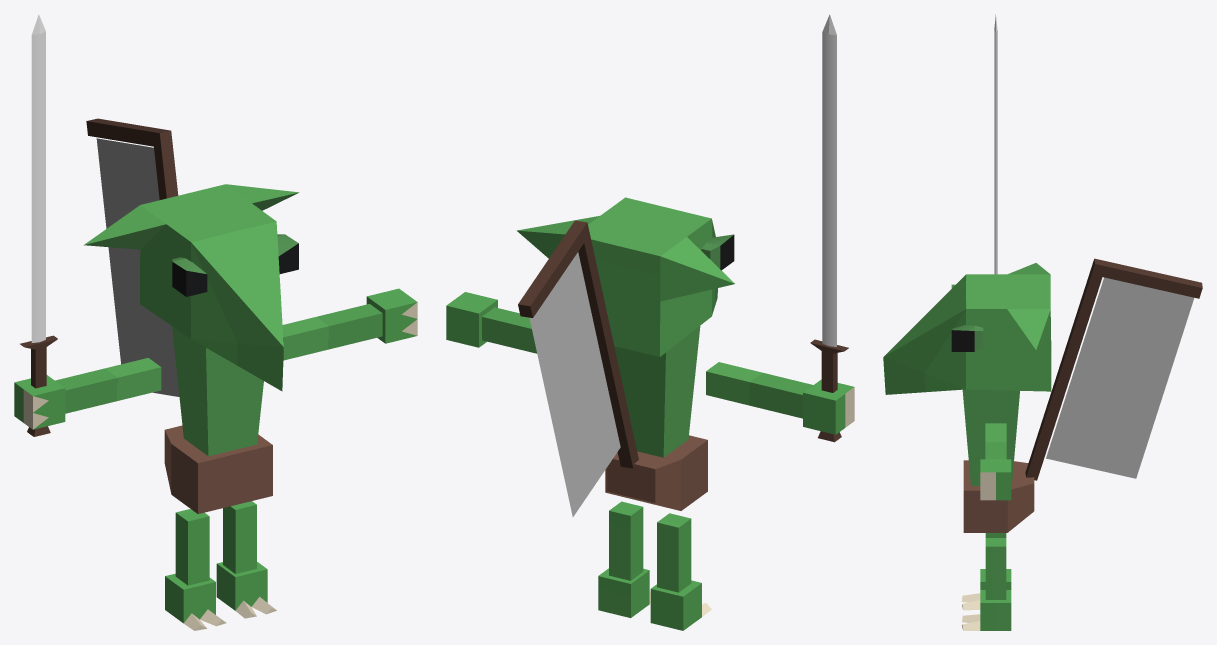
The model's file is GoblinCheiftan.fbx.
3 renders of one model, left to right at view 1: azimuth 30°, elevation 25°; view 2: azimuth 150°, elevation 25°; view 3: azimuth 270°, elevation 25°, orthographic. The views are drawn at different scales.
Parts seen in each view (by area): view 1: Head, Flag, Torso, Hip, Sword, Arm_L, Arm_R, Leg_R, Foot_R, Leg_L, Foot_L, Hand_R (+1 smaller); view 2: Flag, Head, Torso, Sword, Hip, Arm_R, Leg_L, Leg_R, Hand_R, Foot_R, Foot_L, Hand_L (+1 smaller); view 3: Flag, Head, Torso, Hip, Foot_L, Leg_L, Hand_L, Sword, Arm_L, Foot_R.
Boxes of the visible parts, bbox=[...] form: Head: bbox=[84, 184, 299, 391]; Flag: bbox=[86, 118, 179, 396]; Torso: bbox=[172, 326, 263, 456]; Hip: bbox=[164, 425, 272, 513]; Sword: bbox=[20, 14, 57, 436]; Arm_L: bbox=[282, 304, 382, 360]; Arm_R: bbox=[55, 358, 161, 413]; Leg_R: bbox=[175, 509, 209, 585]; Foot_R: bbox=[165, 573, 226, 630]; Leg_L: bbox=[223, 501, 256, 573]; Foot_L: bbox=[216, 562, 276, 618]; Hand_R: bbox=[14, 375, 65, 429]; Flag: bbox=[518, 220, 638, 516]; Head: bbox=[517, 197, 734, 356]; Torso: bbox=[614, 326, 700, 457]; Sword: bbox=[810, 14, 848, 442]; Hip: bbox=[605, 435, 707, 510]; Arm_R: bbox=[706, 362, 812, 418]; Leg_L: bbox=[609, 501, 643, 580]; Leg_R: bbox=[657, 513, 691, 592]; Hand_R: bbox=[803, 379, 854, 434]; Foot_R: bbox=[650, 580, 711, 630]; Foot_L: bbox=[598, 568, 650, 617]; Hand_L: bbox=[446, 292, 497, 347]; Flag: bbox=[1025, 258, 1202, 480]; Head: bbox=[883, 263, 1051, 394]; Torso: bbox=[962, 389, 1019, 485]; Hip: bbox=[963, 460, 1034, 532]; Foot_L: bbox=[962, 590, 1011, 630]; Leg_L: bbox=[985, 538, 1006, 599]; Hand_L: bbox=[980, 459, 1011, 500]; Sword: bbox=[994, 14, 997, 274]; Arm_L: bbox=[985, 423, 1006, 459]; Foot_R: bbox=[961, 569, 1011, 610].
Size of the model in its own units: 11.98 by 18.82 by 10.32.
